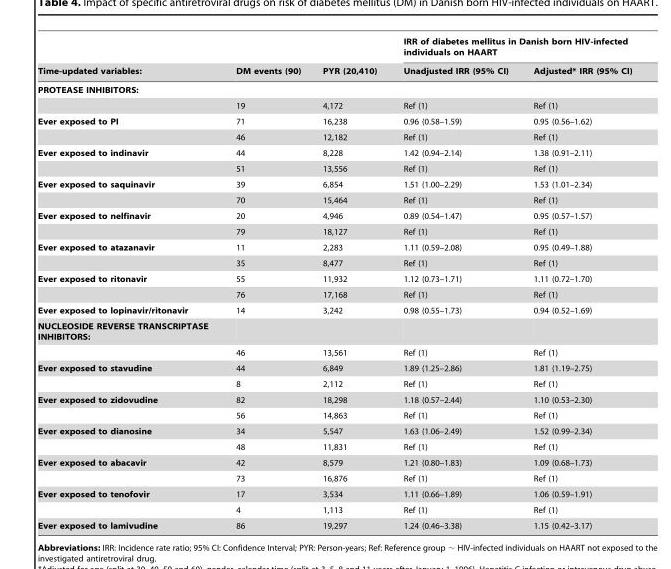table: (37, 36, 631, 529)
table column: (37, 36, 221, 529), (389, 36, 520, 529), (520, 36, 631, 529), (221, 36, 311, 529), (311, 36, 389, 529)
table column header: (37, 36, 631, 80)
table projected row header: (37, 318, 631, 344), (37, 80, 631, 97)
table row: (37, 318, 631, 344), (37, 36, 631, 61), (37, 61, 631, 80), (37, 80, 631, 97), (37, 97, 631, 113), (37, 113, 631, 129), (37, 144, 631, 160), (37, 160, 631, 176), (37, 176, 631, 192), (37, 207, 631, 223), (37, 223, 631, 239), (37, 239, 631, 255), (37, 270, 631, 286), (37, 286, 631, 302), (37, 302, 631, 318), (37, 344, 631, 360), (37, 375, 631, 391), (37, 391, 631, 407), (37, 407, 631, 423), (37, 438, 631, 454), (37, 454, 631, 470), (37, 470, 631, 486), (37, 501, 631, 517), (37, 129, 631, 144), (37, 192, 631, 207), (37, 255, 631, 270), (37, 360, 631, 375), (37, 423, 631, 438), (37, 486, 631, 501), (37, 517, 631, 529)
table spanning cell: (37, 36, 221, 80), (389, 36, 631, 61), (37, 144, 221, 176), (37, 207, 221, 239), (37, 270, 221, 302), (37, 391, 221, 423), (37, 454, 221, 486), (37, 113, 221, 144), (37, 176, 221, 207), (37, 239, 221, 270), (37, 360, 221, 391), (37, 423, 221, 454), (37, 486, 221, 517), (221, 36, 311, 80), (311, 36, 389, 80)
